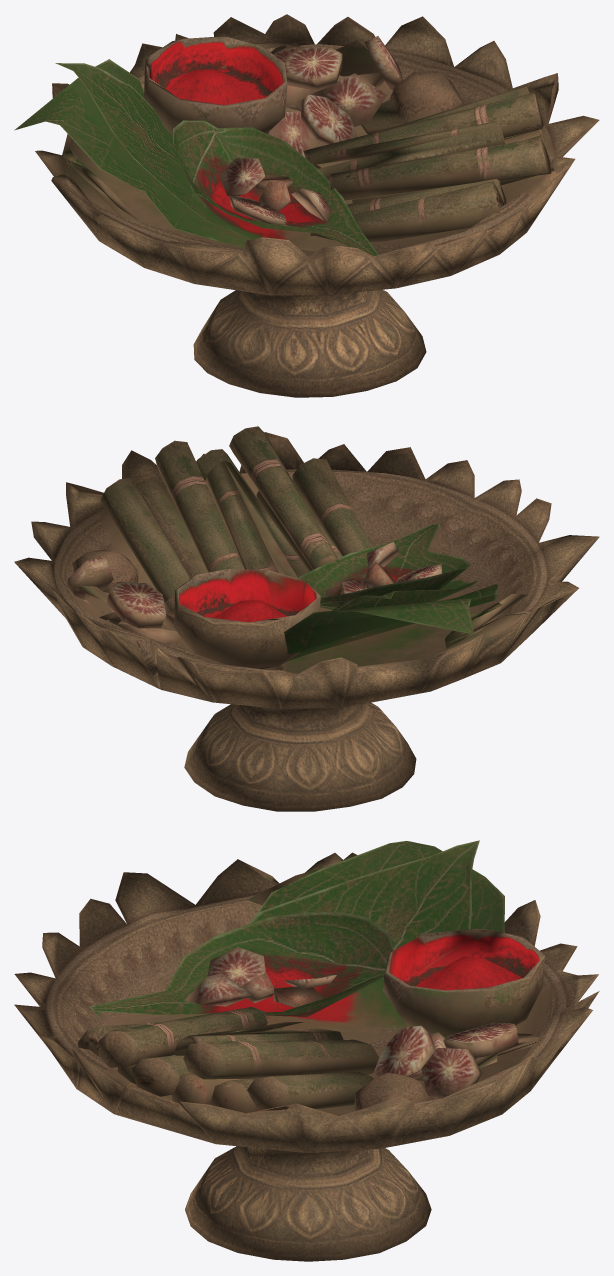
The model's file is Meshy_AI_Traditional_Paan_Offering_20261028_texture.fbx.
3 views of the same model, one above another, from view 1: azimuth 30°, elevation 25°; view 2: azimuth 150°, elevation 25°; view 3: azimuth 270°, elevation 25° (orthographic). The views are drawn at different scales.
Parts seen in each view (by area): view 1: Mesh_0; view 2: Mesh_0; view 3: Mesh_0.
Boxes of the visible parts, x1=… form: Mesh_0: x1=14, y1=14, x2=599, y2=397; Mesh_0: x1=14, y1=426, x2=599, y2=811; Mesh_0: x1=14, y1=840, x2=599, y2=1261.
Size of the model in its own units: 95.07 by 49.51 by 93.46.
Materials: 1 (1 with a texture image).
